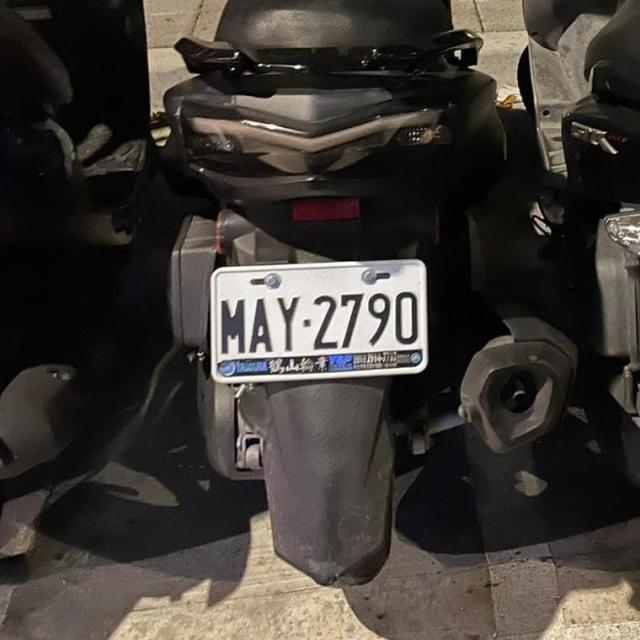W: (202, 252, 435, 388)
